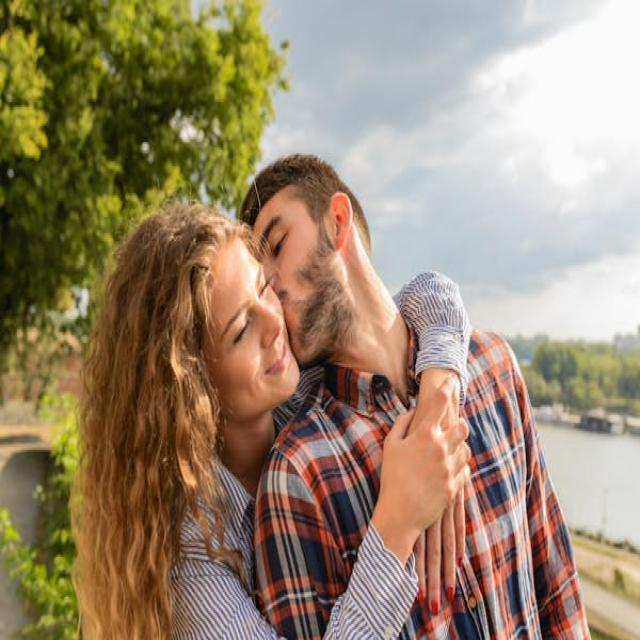Real human 2: (78, 132, 604, 640)
